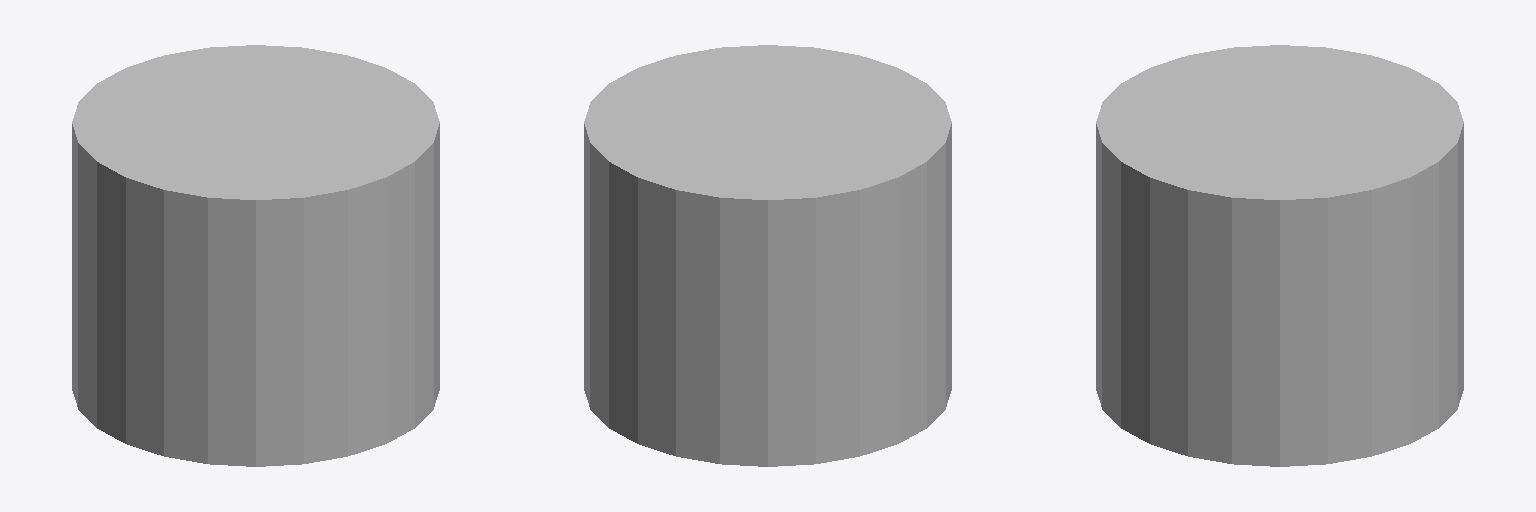
Rendered from longlog.obj.
The picture shows the model from 3 angles: view 1: azimuth 30°, elevation 25°; view 2: azimuth 150°, elevation 25°; view 3: azimuth 270°, elevation 25°; orthographic projection.
Visible parts, largest first — view 1: Cylinder; view 2: Cylinder; view 3: Cylinder.
Boxes of the visible parts, <box> form: Cylinder: <box>72,45,439,466</box>; Cylinder: <box>584,45,951,466</box>; Cylinder: <box>1096,45,1463,466</box>.
Bounding box in the file's own units: 1.25 × 1 × 1.25.